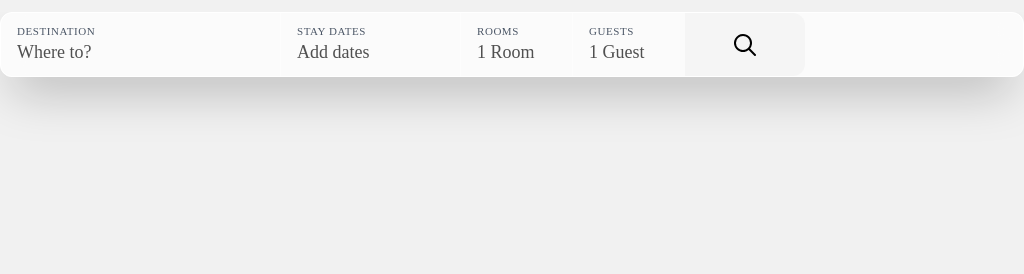
Test: SearchBarHome Component Tests › shows suggestions dropdown list when user types a destination
In the field with placeholder "Where to?": (140, 53) top-left (17, 39), bottom-right (264, 66), type "Bang"
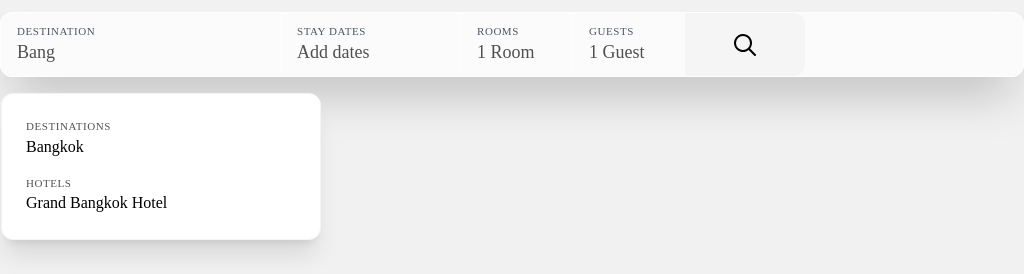
Result: the text "DESTINATIONS" is shown at top-left (26, 120), bottom-right (111, 132)
Result: the text "Bangkok" is shown
Result: the text "HOTELS" is shown at top-left (26, 176), bottom-right (72, 188)
Click the text "Bangkok": (55, 146) top-left (26, 138), bottom-right (84, 154)
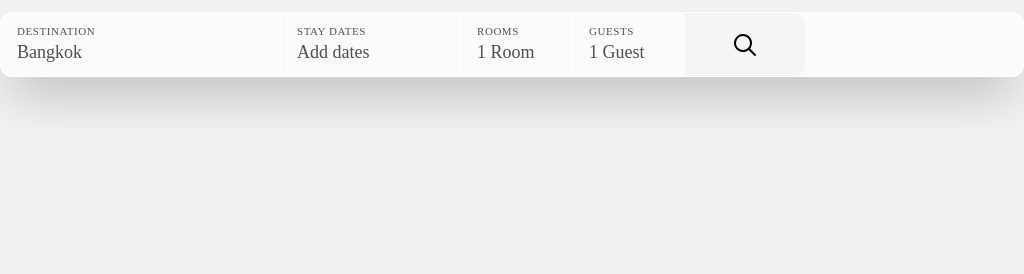
Result: the field with placeholder "Where to?" holds "Bangkok" at top-left (17, 39), bottom-right (264, 66)
